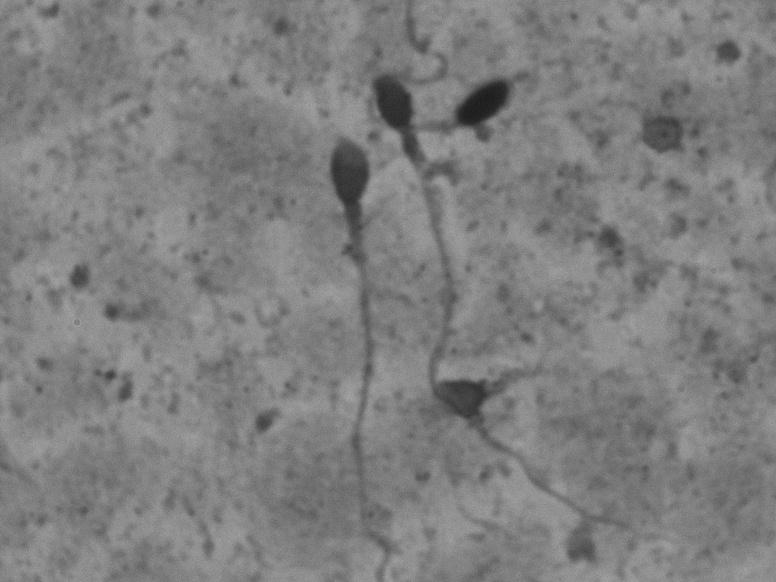Abnormal: (362, 46, 677, 557), (313, 114, 407, 537)
